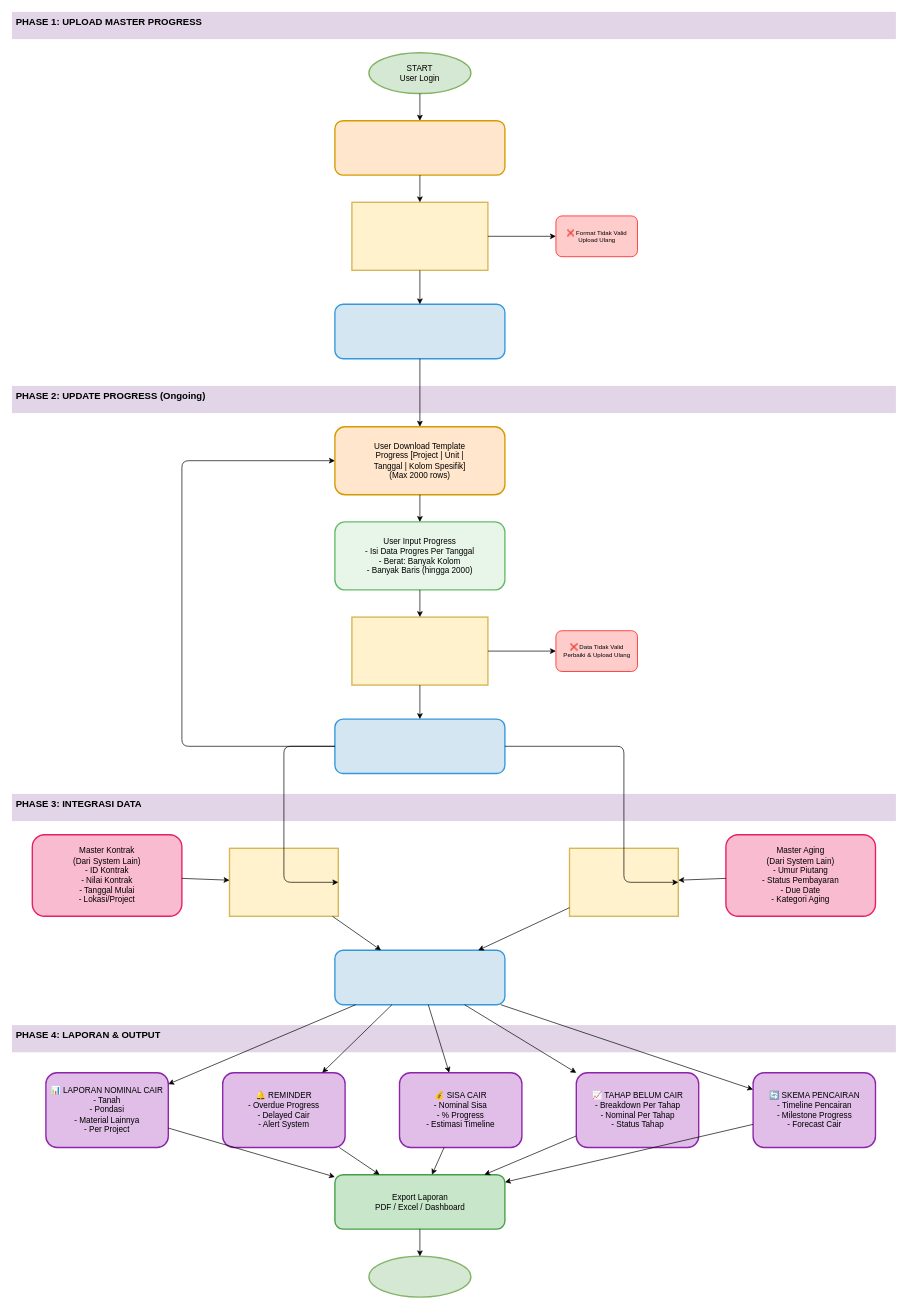
This 907x1309 diagram has some shape labels left out. Each missing label, with the centre of its shape:
Data Enriched Progress Progress + Kontrak + Aging: the point at 419,977
END Laporan Tersedia: the point at 419,1276
JOIN Progress x Master Aging [ID Kontrak]: the point at 623,882
JOIN Progress x Master Kontrak [ID Project]: the point at 283,882
Simpan Master Progress Database [Project | Unit | Tanggal]: the point at 419,331
Update Progress Database Per Project Per Tanggal: the point at 419,746
User Upload Master Progress (File Excel) Project 1 & 2: the point at 419,147
Validasi Data Progress - Format Data - Range Nilai - Konsistensi Data: the point at 419,650
Validasi File - Format Excel - Struktur Kolom - Ketersediaan Data: the point at 419,236
